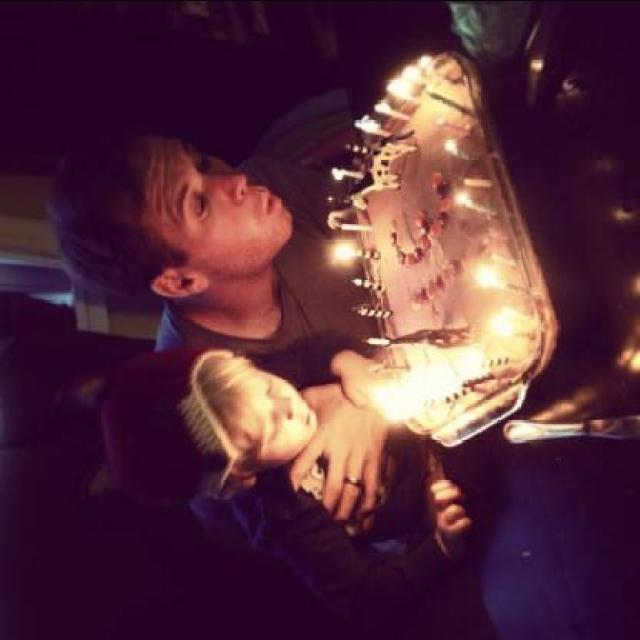Cake: (350, 45, 576, 438)
